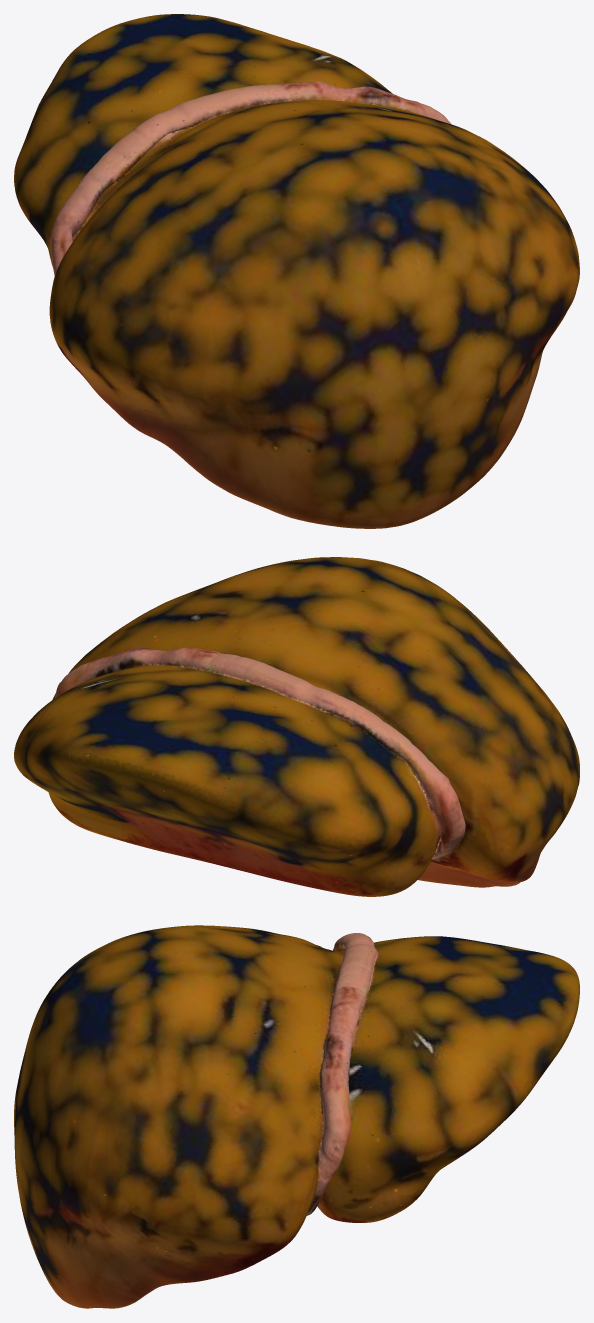
Rendered from fatty-liver.glb.
3 renders of one model, top to bottom at view 1: azimuth 30°, elevation 25°; view 2: azimuth 150°, elevation 25°; view 3: azimuth 270°, elevation 25°, orthographic. The views are drawn at different scales.
Visible parts, largest first — view 1: FattyLiver; view 2: FattyLiver; view 3: FattyLiver.
Boxes of the visible parts, <box> form: FattyLiver: <box>14,14,579,528</box>; FattyLiver: <box>14,557,579,896</box>; FattyLiver: <box>14,925,579,1308</box>.
Size of the model in its own units: 2.01 by 1.37 by 2.11.
Materials: 1 (1 with a texture image).
